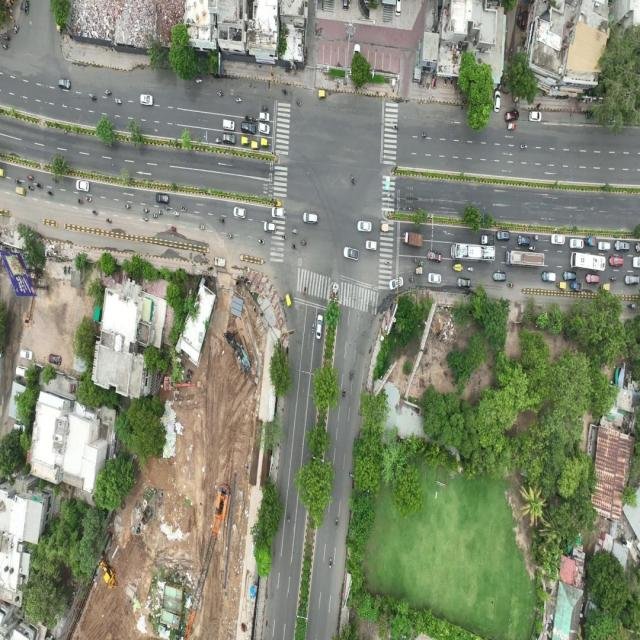3W: (282, 289, 295, 312), (378, 218, 392, 238), (596, 278, 613, 294), (450, 260, 466, 277), (18, 0, 32, 18), (554, 277, 568, 294), (316, 86, 329, 102), (14, 184, 27, 198), (240, 134, 252, 148), (260, 136, 270, 151), (250, 139, 261, 152)
Bus: (504, 246, 546, 272), (448, 240, 497, 262), (569, 250, 606, 276)
Cars: (356, 215, 374, 237), (502, 104, 521, 124), (302, 207, 320, 228), (623, 273, 640, 295), (342, 244, 360, 264), (548, 229, 566, 248), (606, 253, 625, 271), (540, 267, 558, 286), (494, 226, 513, 244), (456, 273, 474, 292), (240, 118, 258, 137), (493, 87, 504, 118), (596, 236, 613, 256), (515, 232, 536, 248), (262, 219, 280, 237), (270, 202, 288, 220), (561, 264, 579, 282), (153, 189, 172, 206), (351, 41, 362, 69), (74, 177, 92, 194), (138, 92, 155, 110), (584, 270, 601, 288), (388, 274, 405, 292), (16, 364, 34, 381), (222, 130, 238, 149), (614, 236, 630, 255), (491, 268, 510, 284), (255, 120, 274, 136), (315, 310, 324, 342), (222, 114, 238, 132), (568, 235, 584, 252), (426, 250, 443, 266), (232, 204, 248, 220), (256, 108, 272, 124), (57, 76, 72, 93), (48, 351, 62, 369), (20, 346, 34, 364), (12, 422, 29, 436), (528, 108, 542, 124), (426, 272, 443, 285), (365, 237, 378, 254), (520, 6, 528, 32), (630, 254, 640, 273), (394, 0, 404, 18), (341, 0, 351, 12), (633, 240, 640, 254)
LCV: (568, 277, 586, 297), (583, 230, 599, 250), (410, 260, 426, 280), (506, 120, 520, 137), (584, 110, 598, 123)
M2W: (276, 82, 290, 102), (346, 169, 359, 190), (122, 200, 136, 216), (10, 20, 24, 36), (285, 508, 295, 530), (406, 268, 417, 288), (332, 514, 342, 534), (104, 211, 115, 229), (49, 175, 64, 188), (113, 94, 125, 110), (300, 281, 310, 300), (258, 101, 272, 114), (626, 300, 639, 314), (420, 126, 430, 144), (348, 366, 358, 384), (216, 88, 228, 103), (195, 71, 206, 87), (519, 138, 530, 154), (530, 228, 541, 244), (340, 386, 349, 405), (279, 229, 289, 246), (234, 92, 244, 109), (390, 122, 402, 136), (608, 272, 620, 286), (295, 95, 304, 113), (85, 191, 95, 207), (90, 207, 102, 220), (204, 263, 217, 275), (298, 237, 309, 251), (0, 42, 14, 53), (87, 92, 99, 104), (179, 203, 190, 216), (1, 32, 14, 43), (168, 222, 178, 236), (26, 182, 36, 196), (76, 195, 85, 210), (197, 222, 208, 234), (241, 110, 252, 122), (504, 280, 516, 291), (383, 259, 394, 271), (142, 202, 152, 215), (26, 170, 36, 183), (11, 177, 24, 187), (151, 206, 158, 224), (156, 206, 165, 220), (103, 87, 114, 98), (327, 557, 335, 572), (141, 215, 151, 227), (45, 188, 55, 200), (417, 257, 427, 269), (466, 265, 478, 275), (256, 236, 265, 249), (214, 134, 223, 147), (310, 318, 316, 337), (172, 208, 180, 222), (251, 112, 259, 126), (528, 245, 539, 255), (35, 181, 44, 193), (410, 254, 419, 266), (226, 230, 234, 243), (290, 240, 298, 253), (162, 203, 172, 213), (217, 216, 226, 227), (448, 77, 455, 90), (433, 73, 438, 91), (291, 226, 299, 237), (443, 75, 448, 89)
MAV: (97, 560, 120, 592)
Truck: (400, 227, 425, 252), (478, 229, 497, 248), (212, 253, 229, 274)
